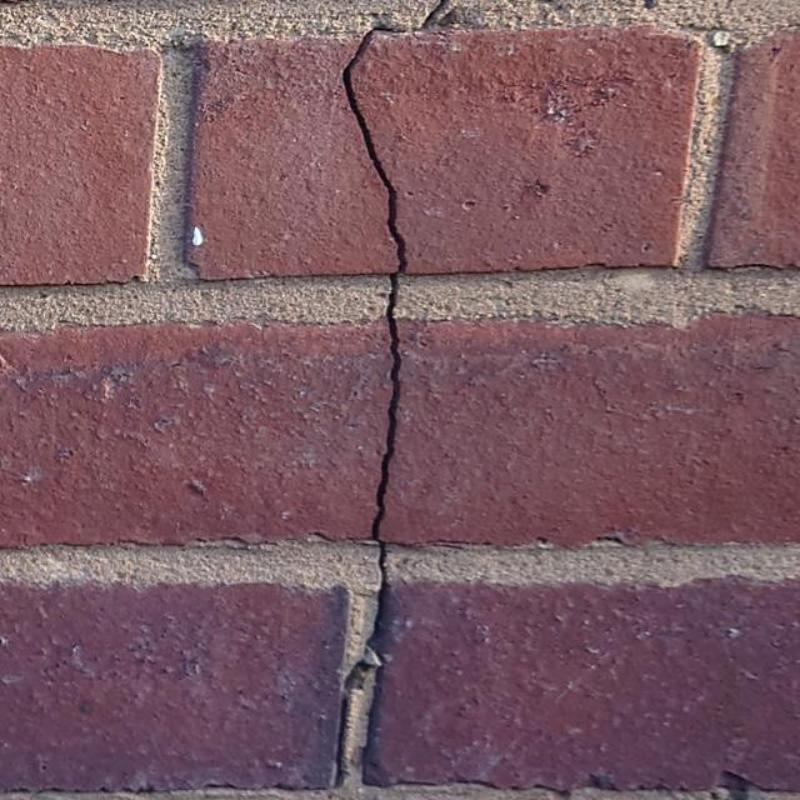crack: (344, 30, 406, 662), (333, 662, 369, 788), (372, 0, 445, 34)
